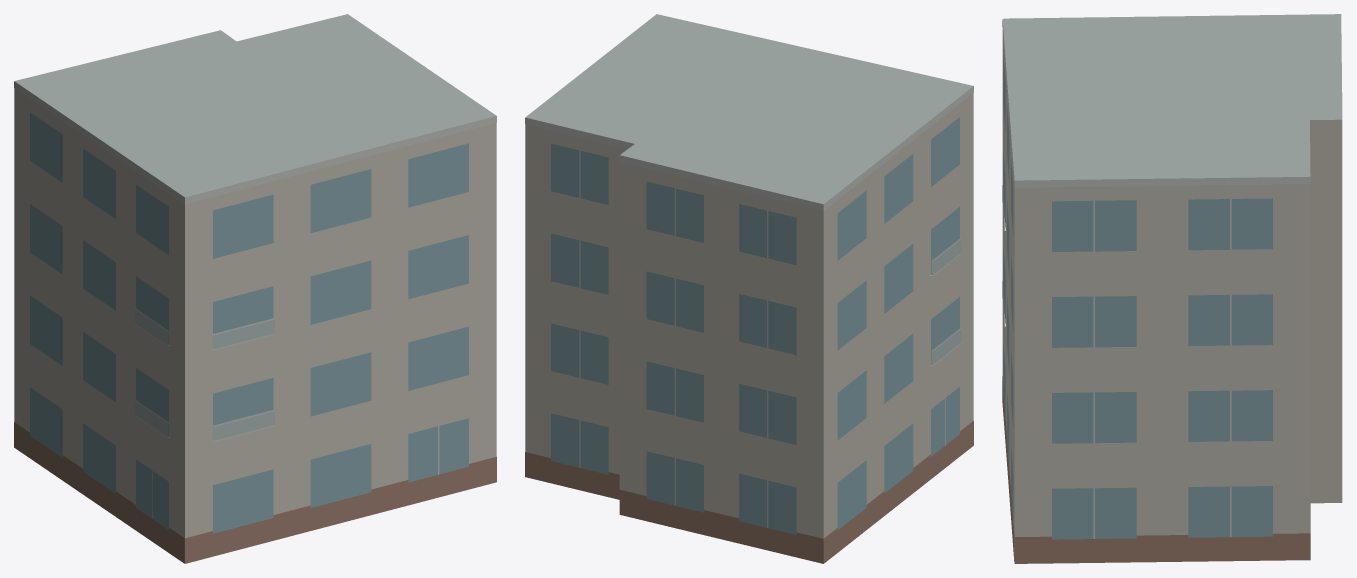
File: survey-upis-32979133.glb
3 views of the same model, side by side, from view 1: azimuth 30°, elevation 25°; view 2: azimuth 150°, elevation 25°; view 3: azimuth 270°, elevation 25° (orthographic). The views are drawn at different scales.
Parts seen in each view (by area): view 1: survey-upis-32979133.tmp; view 2: survey-upis-32979133.tmp; view 3: survey-upis-32979133.tmp.
Part boxes in pixels (x1,y1,x2,y2): survey-upis-32979133.tmp: (14,14,496,563); survey-upis-32979133.tmp: (525,14,973,563); survey-upis-32979133.tmp: (1002,14,1342,563).
Size of the model in its own units: 12.03 by 12.9 by 10.38.
